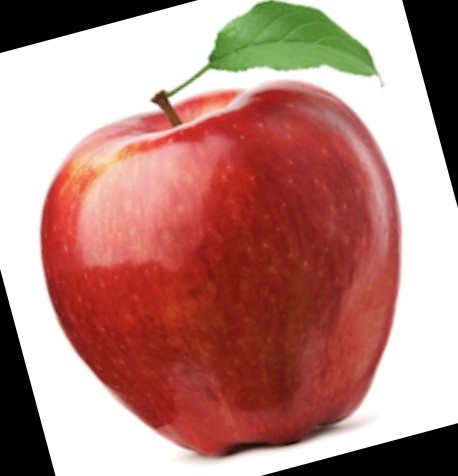fresh_apple: (41, 81, 400, 455)
